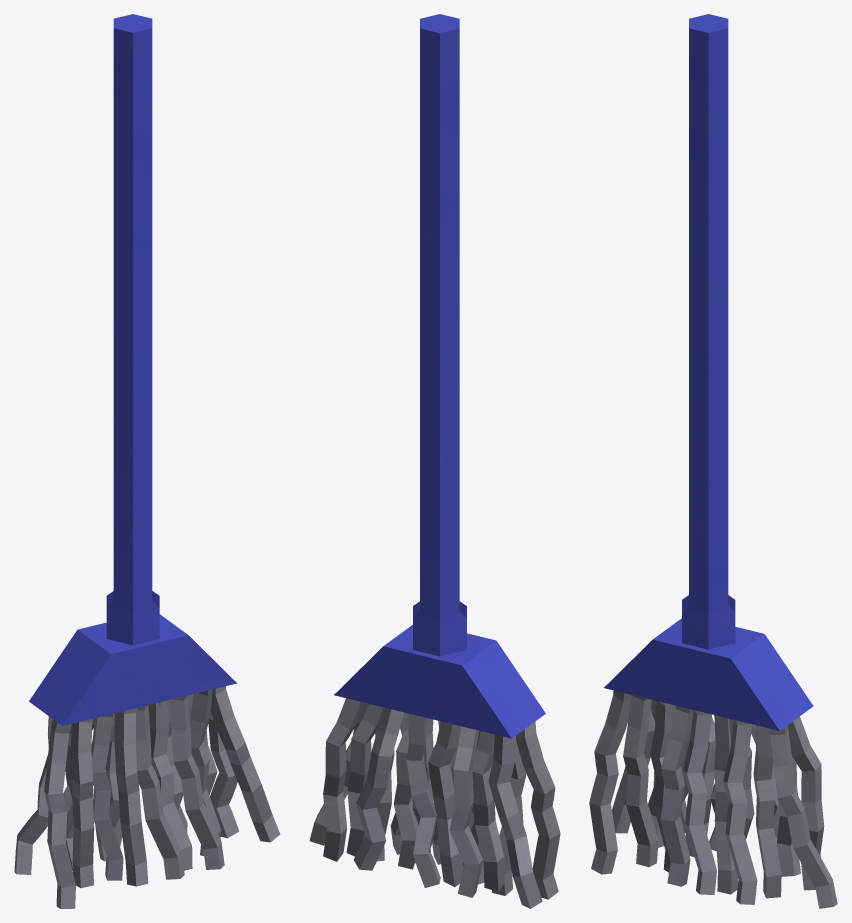
Rendered from FBX_Model_MABacklog_Mop.fbx.
3 renders of one model, left to right at view 1: azimuth 30°, elevation 25°; view 2: azimuth 150°, elevation 25°; view 3: azimuth 330°, elevation 25°, orthographic.
Parts seen in each view (by area): view 1: Mop_v002_pCube1, Cube.017; view 2: Mop_v002_pCube1, Cube.017; view 3: Mop_v002_pCube1, Cube.017.
Part boxes in pixels (x1=…): Mop_v002_pCube1: x1=29, y1=14, x2=236, y2=725; Cube.017: x1=14, y1=686, x2=280, y2=908; Mop_v002_pCube1: x1=334, y1=14, x2=545, y2=738; Cube.017: x1=309, y1=698, x2=560, y2=908; Mop_v002_pCube1: x1=604, y1=14, x2=813, y2=730; Cube.017: x1=589, y1=690, x2=837, y2=908.
Size of the model in its own units: 2.79 by 9.28 by 1.06.
Materials: 1 (1 with a texture image).
